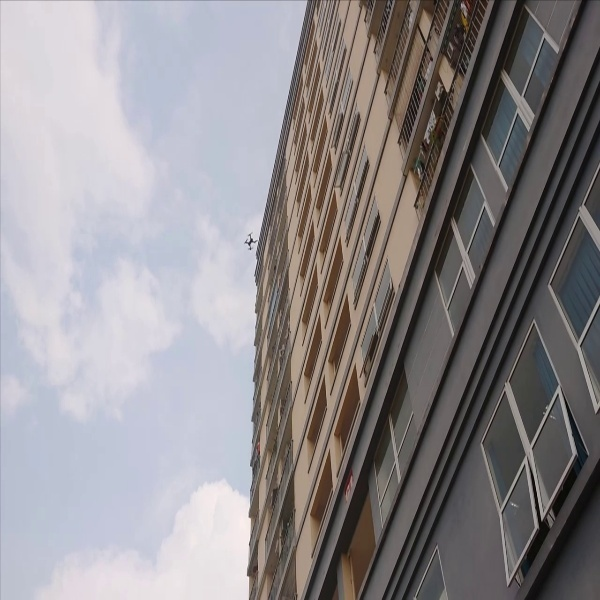drone: (243, 226, 259, 254)
